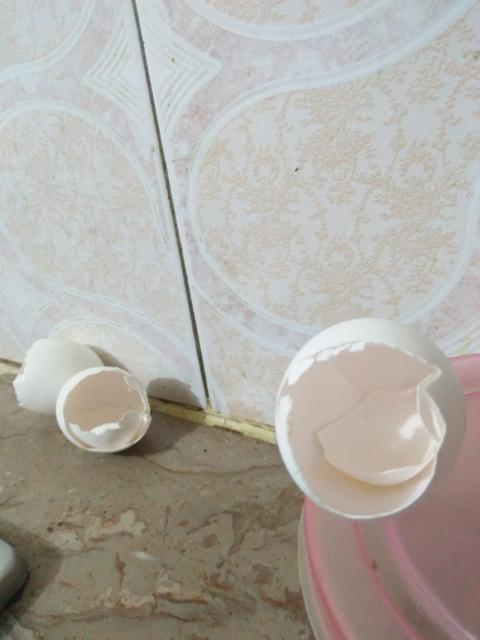Roto: (274, 318, 462, 522), (57, 363, 152, 455), (13, 337, 104, 415)
